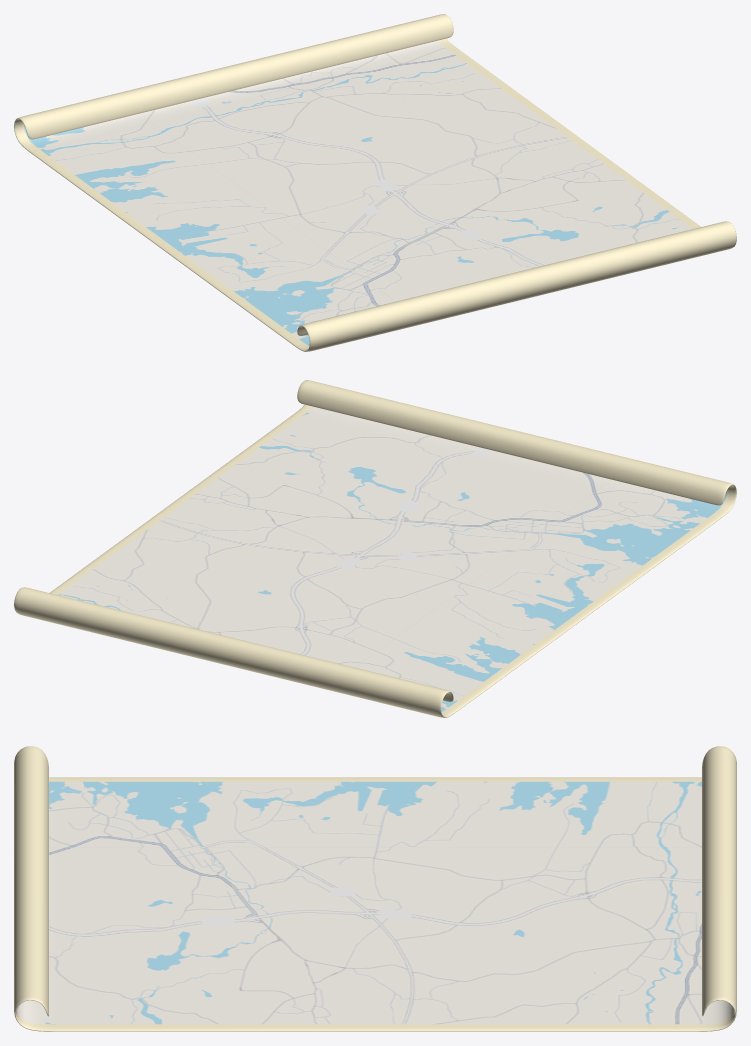
File: karta.fbx
3 renders of one model, top to bottom at view 1: azimuth 30°, elevation 25°; view 2: azimuth 150°, elevation 25°; view 3: azimuth 270°, elevation 25°, orthographic. The views are drawn at different scales.
Parts seen in each view (by area): view 1: polySurface3; view 2: polySurface3; view 3: polySurface3.
Part boxes in pixels (bbox=[...]): polySurface3: bbox=[14, 14, 736, 351]; polySurface3: bbox=[14, 380, 736, 717]; polySurface3: bbox=[14, 746, 736, 1031].
Bounding box in the file's own units: 1.52 × 0.0951 × 1.84.
